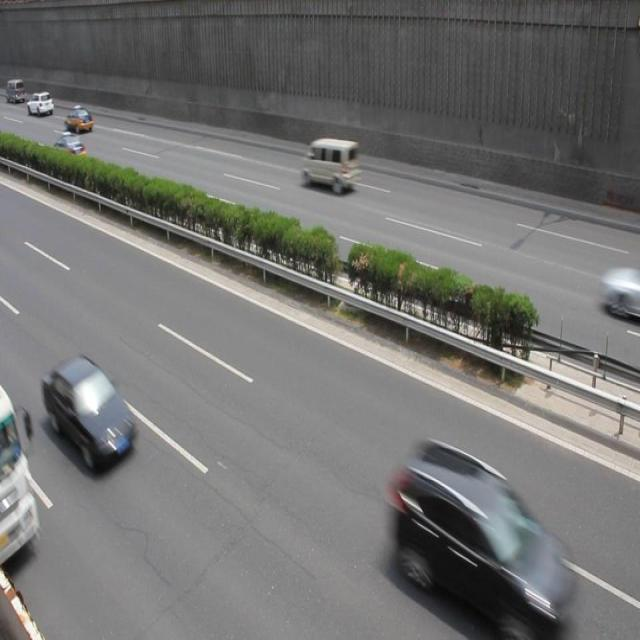car: (392, 438, 575, 622), (43, 356, 137, 472), (52, 132, 87, 168), (64, 105, 93, 134)
truck: (301, 139, 359, 194)
